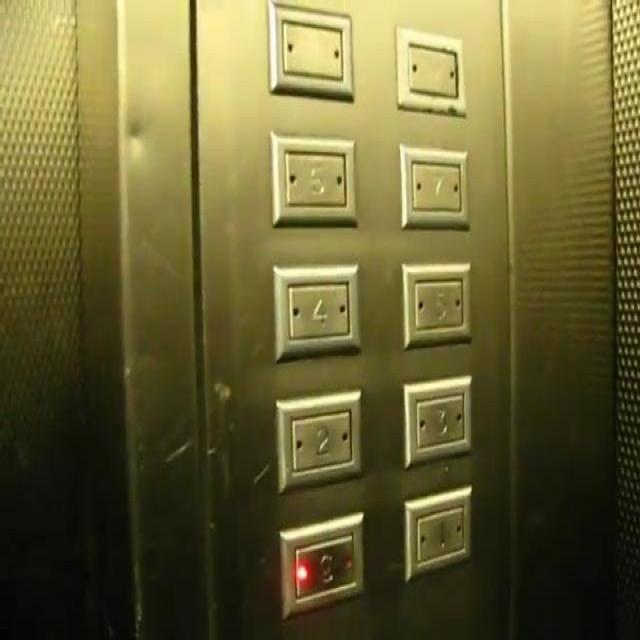1: (403, 484, 473, 580)
2: (273, 386, 363, 494)
3: (402, 373, 472, 467)
4: (270, 260, 362, 361)
5: (268, 128, 357, 225), (400, 263, 472, 349)
7: (397, 140, 470, 228)
blur: (277, 511, 366, 618)
empty: (267, 0, 353, 103), (394, 22, 468, 118)
